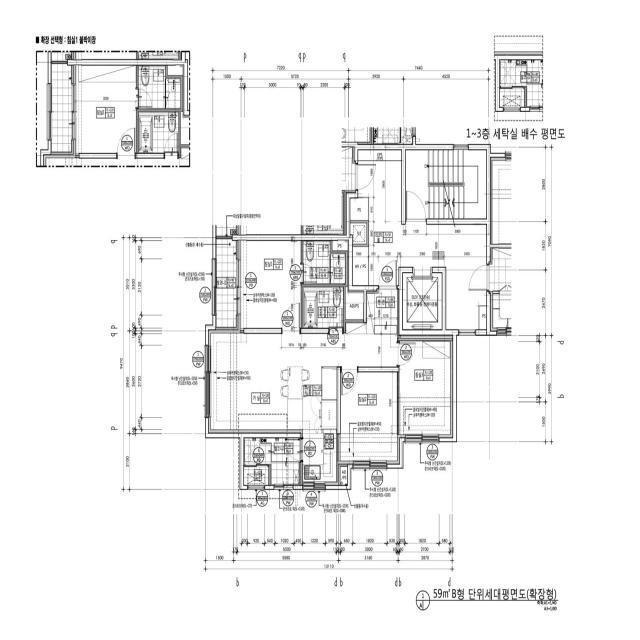space_balconi: (244, 438, 300, 486), (216, 239, 236, 327)
space_bedroom: (238, 241, 301, 330), (339, 372, 399, 464), (399, 341, 453, 438)
space_elevator: (403, 273, 442, 329)
space_elevator_hall: (358, 161, 486, 329)
space_front: (367, 289, 399, 334)
space_kitchen: (301, 366, 338, 485)
space_living_room: (209, 323, 397, 433)
space_other: (346, 287, 364, 320), (353, 247, 368, 285), (358, 150, 401, 160), (350, 198, 368, 220), (350, 223, 367, 244), (332, 241, 348, 251), (340, 467, 347, 485)
space_staircase: (406, 150, 486, 219)
space_toilet: (303, 241, 345, 284), (303, 287, 344, 328)
